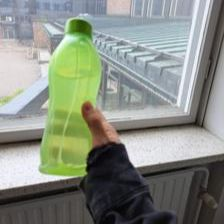bottle: (38, 15, 105, 180)
